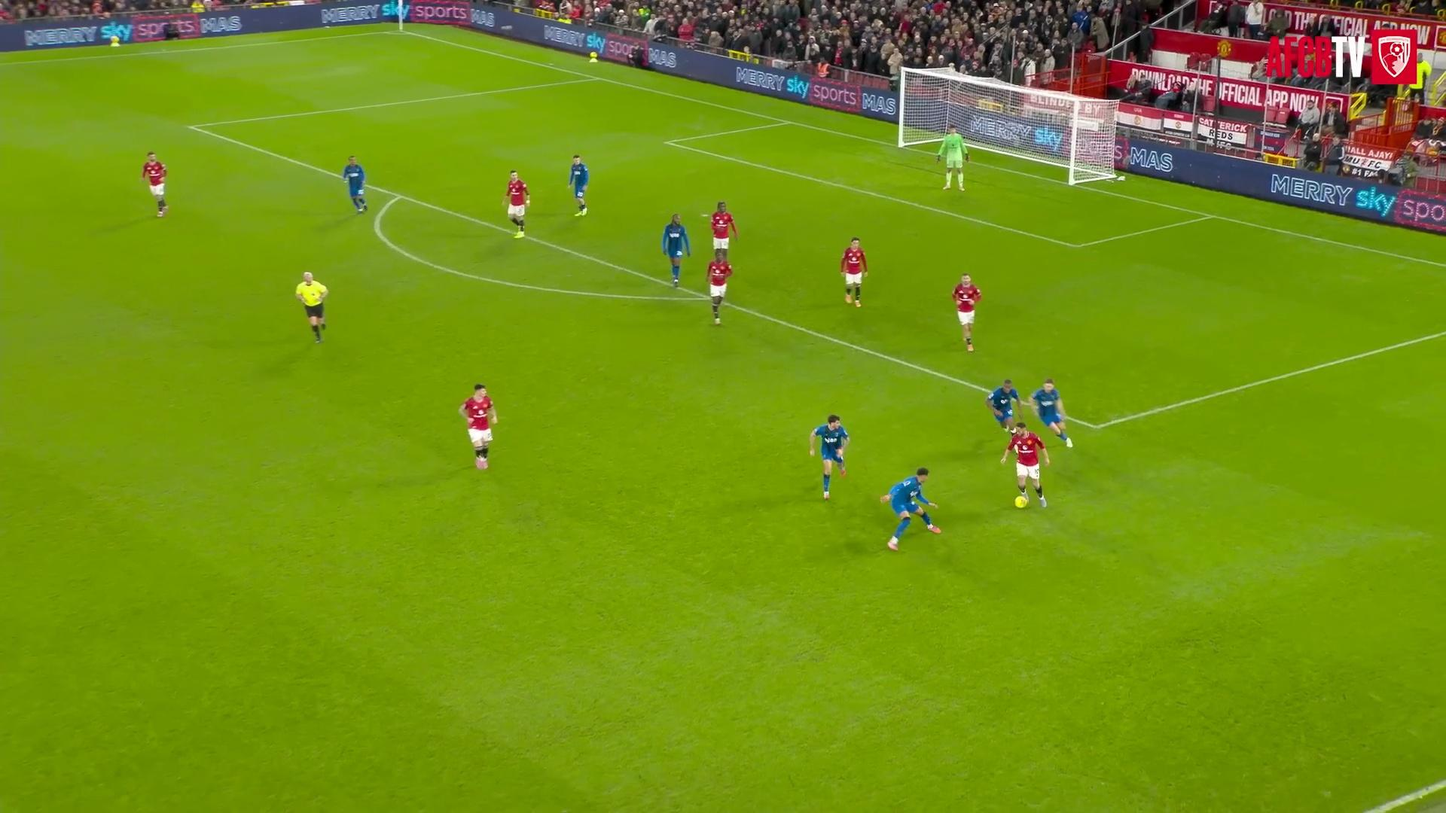football: (1010, 494, 1033, 517)
player: (880, 467, 941, 550), (1001, 422, 1048, 507), (810, 415, 849, 499), (459, 383, 497, 468), (1032, 379, 1072, 447), (936, 123, 969, 190), (953, 274, 981, 352), (662, 214, 690, 287), (840, 238, 868, 306), (707, 248, 732, 324), (986, 379, 1021, 431), (142, 152, 167, 216), (506, 170, 529, 238), (341, 156, 367, 213), (710, 202, 737, 256), (568, 154, 589, 216)
referee: (296, 273, 327, 343)
